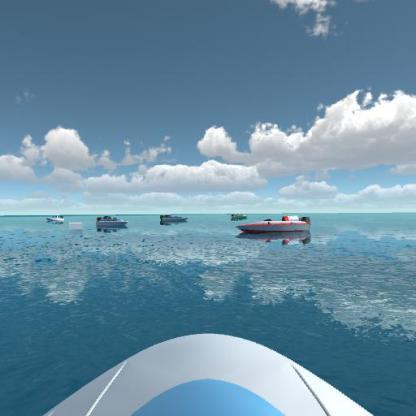usv1: (93, 212, 128, 232), (158, 209, 190, 228), (43, 211, 66, 226), (228, 209, 250, 223)
usv3: (236, 211, 316, 244)
